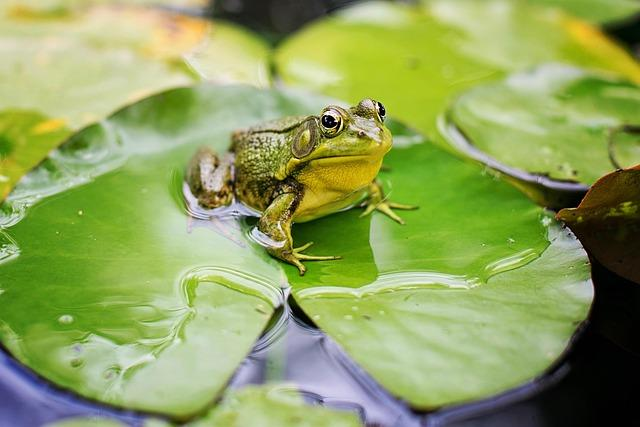Non_Gorille: (98, 31, 500, 341)
